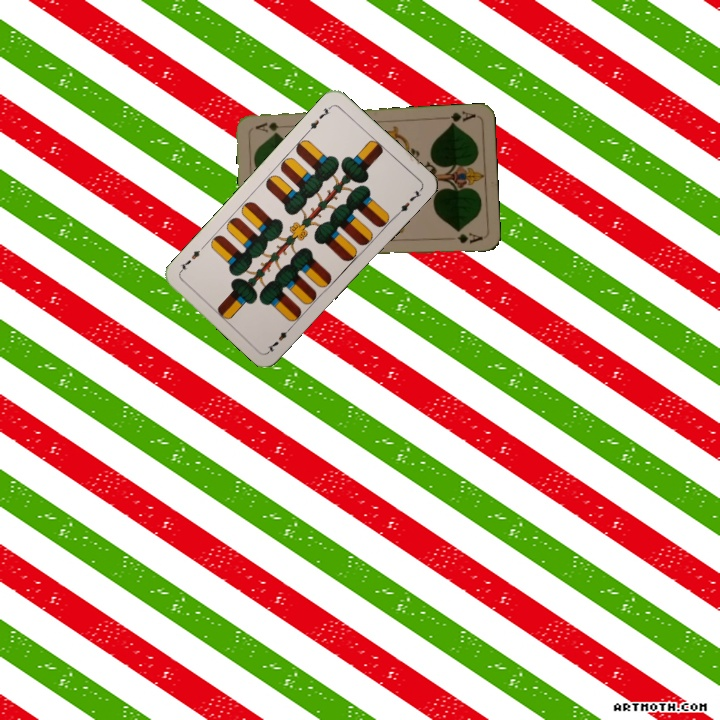E7: (263, 322, 296, 355), (303, 102, 334, 135)
GA: (438, 107, 478, 127)
